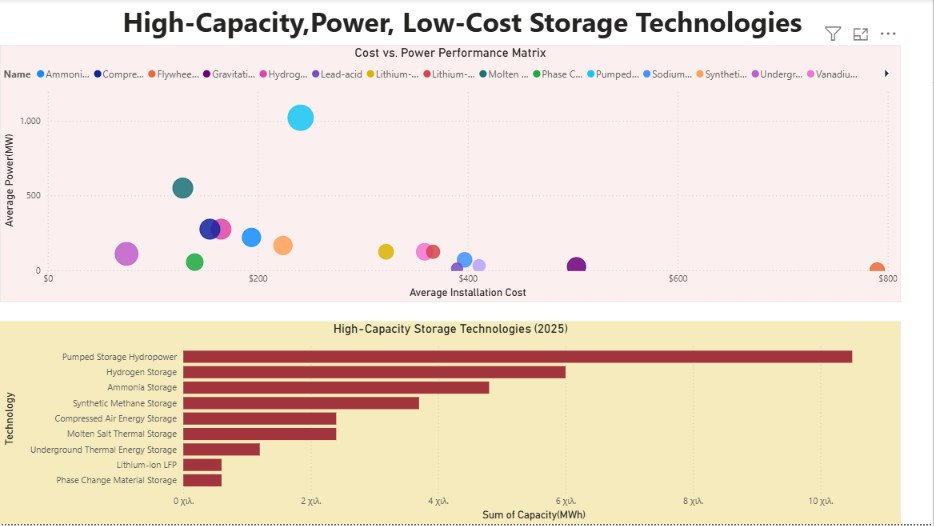

What the dashboard file says about the page in this screenshot:
{"tool":"powerbi","page":{"name":"Σελίδα 3","canvas":[1280,720],"ordinal":2},"visuals":[{"type":"textbox","box":[134.5,0,1010,63.1],"z":0},{"type":"barChart","title":"High-Capacity Storage Technologies (2025)","fields":{"Category":["Ερώτημα1.Technology"],"Y":["Avg(Ερώτημα1.CapacityMWh)"]},"box":[0,441.9,1236.4,278.6],"z":1000},{"type":"scatterChart","title":"Cost vs. Power Performance Matrix","fields":{"X":["Avg(EconomicData.InstallationCost)"],"Y":["Avg(TechnicalData.PowerMW)"],"Size":["Avg(TechnicalData.LifetimeYears)"],"Series":["Technologies.Name"]},"box":[0,63.1,1236.4,352.7],"z":1001}]}

Visuals, with their boxes on the page's 1280x720 design canvas (x1, y1, x2, y2). These are canvas units, not pixel positions in the 934x526 screenshot, which may show the page scaled, cropped or inside an application window:
textbox: 134,0,1144,63
"High-Capacity Storage Technologies (2025)" barChart: 0,442,1236,720
"Cost vs. Power Performance Matrix" scatterChart: 0,63,1236,416
